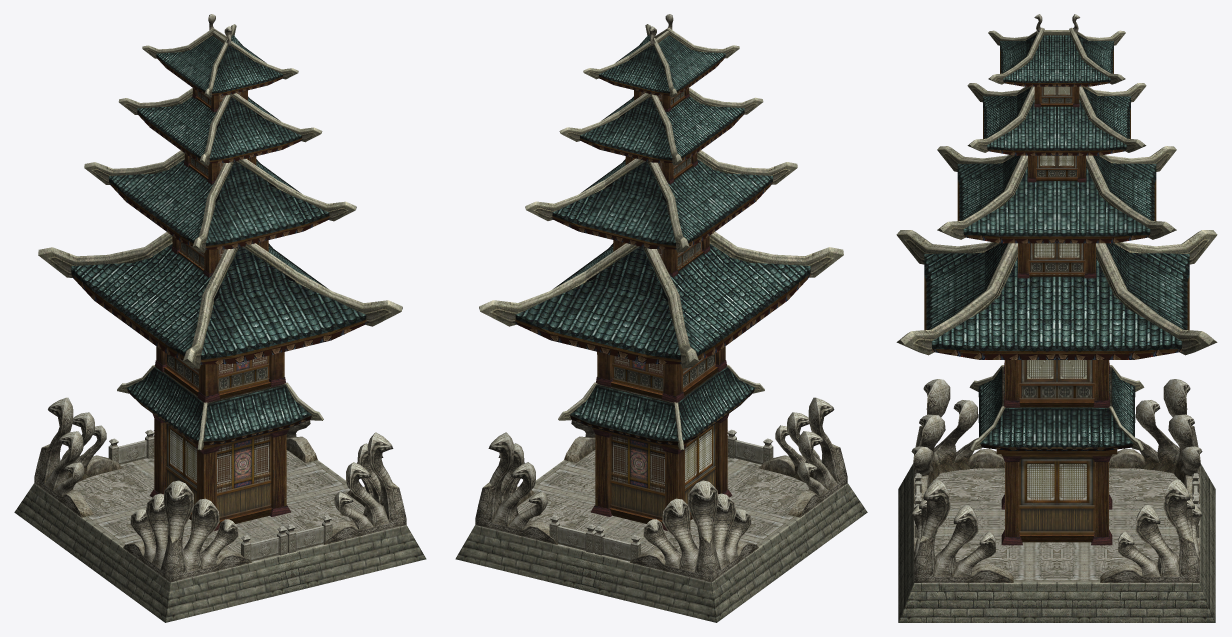
Rendered from gls_a_04.fbx.
The picture shows the model from 3 angles, left to right: view 1: azimuth 30°, elevation 25°; view 2: azimuth 150°, elevation 25°; view 3: azimuth 270°, elevation 25°; orthographic projection. The views are drawn at different scales.
Parts seen in each view (by area): view 1: gls_A_04, gls_A_04_01; view 2: gls_A_04, gls_A_04_01; view 3: gls_A_04, gls_A_04_01.
Part boxes in pixels (x1,y1,x2,y2): gls_A_04: (14, 24, 426, 622); gls_A_04_01: (34, 14, 406, 582); gls_A_04: (455, 24, 867, 622); gls_A_04_01: (475, 14, 847, 582); gls_A_04: (896, 27, 1217, 622); gls_A_04_01: (911, 14, 1202, 582).
Bounding box in the file's own units: 9.55 × 17.99 × 9.67.
